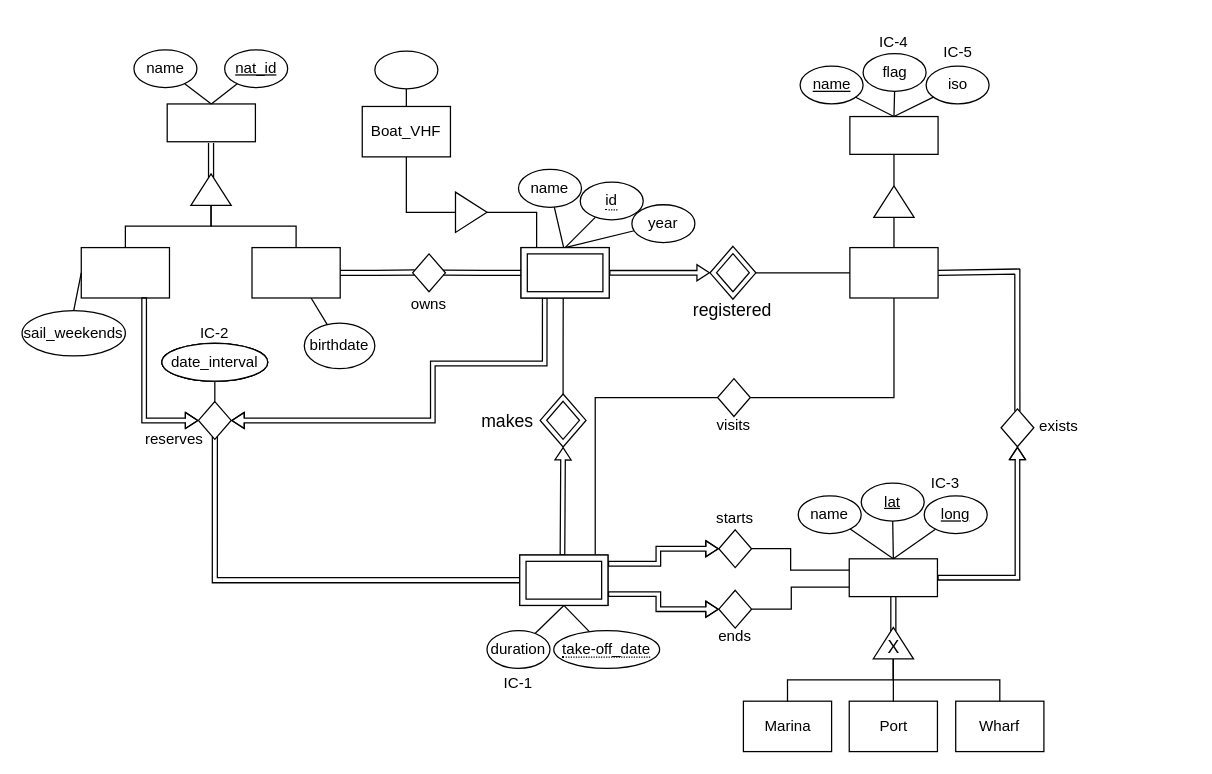
Image size: 1212x774. Some labels were removed from this diagram. Each missing label, with the centre of its shape:
"Boat" goes at pixel 564 272.
"Country" goes at pixel 893 134.
"Juristiction Country" goes at pixel 893 272.
"Location" goes at pixel 892 577.
"MMSI" goes at pixel 406 69.
"Onwer" goes at pixel 295 272.
"Person" goes at pixel 210 122.
"Sailor" goes at pixel 124 272.
"Trip" goes at pixel 563 579.
